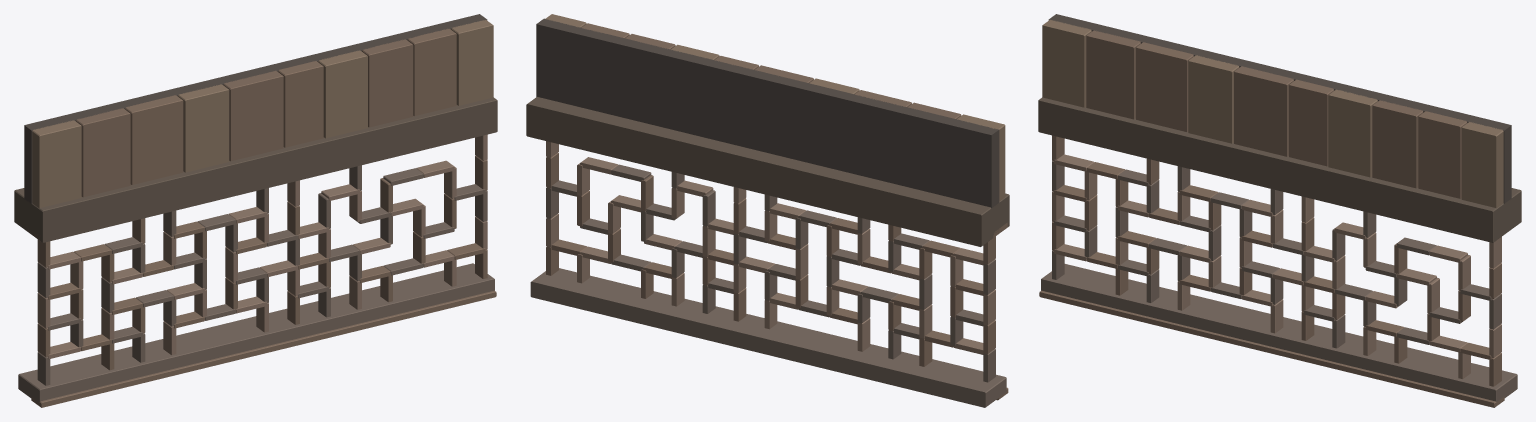
The model's file is pudong-xie-shops-hongxi-lane-three-transom-raw.glb.
3 views of the same model, side by side, from view 1: azimuth 30°, elevation 25°; view 2: azimuth 150°, elevation 25°; view 3: azimuth 330°, elevation 25° (orthographic).
Visible parts, largest first — view 1: 谢氏商铺洪西街二弄3号门上透空回纹木格; view 2: 谢氏商铺洪西街二弄3号门上透空回纹木格; view 3: 谢氏商铺洪西街二弄3号门上透空回纹木格.
Part boxes in pixels (box(x1,y1,x2,y2)): 谢氏商铺洪西街二弄3号门上透空回纹木格: box(14, 14, 497, 407); 谢氏商铺洪西街二弄3号门上透空回纹木格: box(526, 14, 1009, 407); 谢氏商铺洪西街二弄3号门上透空回纹木格: box(1038, 14, 1521, 407).
Size of the model in its own units: 1 by 0.568 by 0.108.
